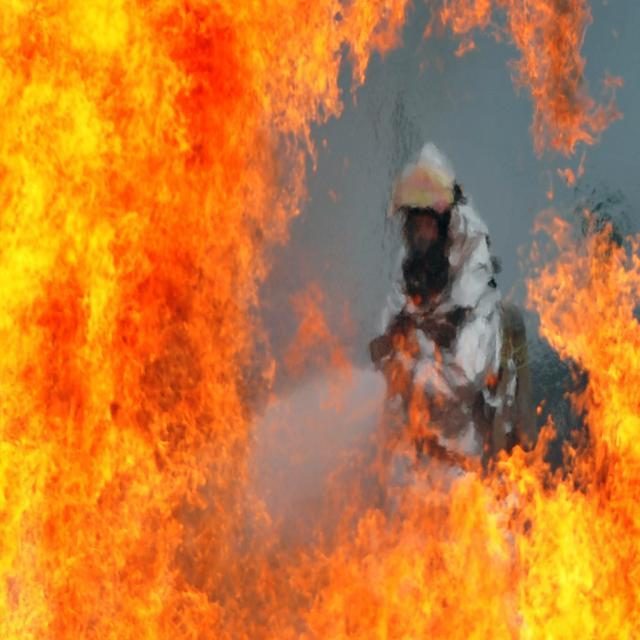Fire: (5, 5, 241, 612), (548, 280, 636, 625), (360, 510, 528, 630)
